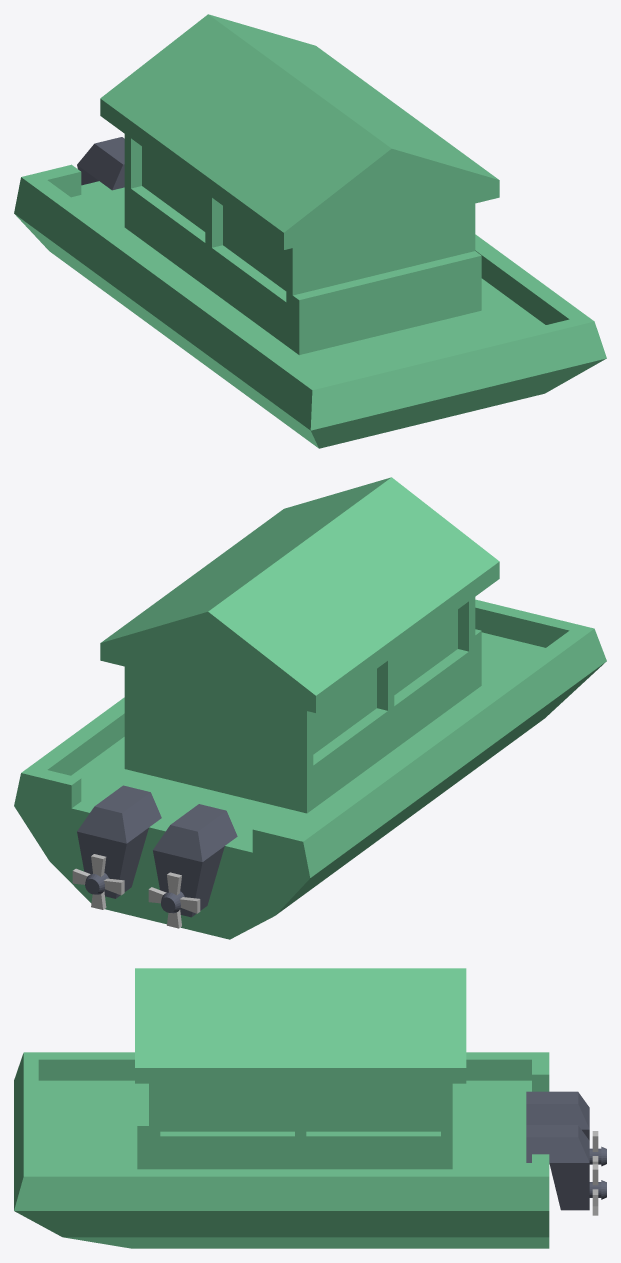
Rendered from watercraftpack_002.glb.
3 renders of one model, top to bottom at view 1: azimuth 30°, elevation 25°; view 2: azimuth 150°, elevation 25°; view 3: azimuth 270°, elevation 25°, orthographic. The views are drawn at different scales.
Parts seen in each view (by area): view 1: Mesh5 Group1 Model, Mesh4 Group5 Group1 Model; view 2: Mesh5 Group1 Model, Mesh4 Group5 Group1 Model, Mesh2 Group3 Group1 Model, Mesh1 Group2 Group1 Model, Mesh3 Group4 Group1 Model; view 3: Mesh5 Group1 Model, Mesh2 Group3 Group1 Model, Mesh4 Group5 Group1 Model.
Boxes of the visible parts, x1,y1,x2,y2 form: Mesh5 Group1 Model: [14, 14, 606, 448]; Mesh4 Group5 Group1 Model: [77, 137, 124, 190]; Mesh5 Group1 Model: [14, 477, 606, 939]; Mesh4 Group5 Group1 Model: [153, 804, 237, 917]; Mesh2 Group3 Group1 Model: [77, 785, 161, 898]; Mesh1 Group2 Group1 Model: [148, 872, 200, 928]; Mesh3 Group4 Group1 Model: [72, 854, 124, 909]; Mesh5 Group1 Model: [14, 968, 549, 1248]; Mesh2 Group3 Group1 Model: [526, 1125, 606, 1210]; Mesh4 Group5 Group1 Model: [526, 1091, 606, 1166].
Bounding box in the file's own units: 2.68 × 2.4 × 5.14.
